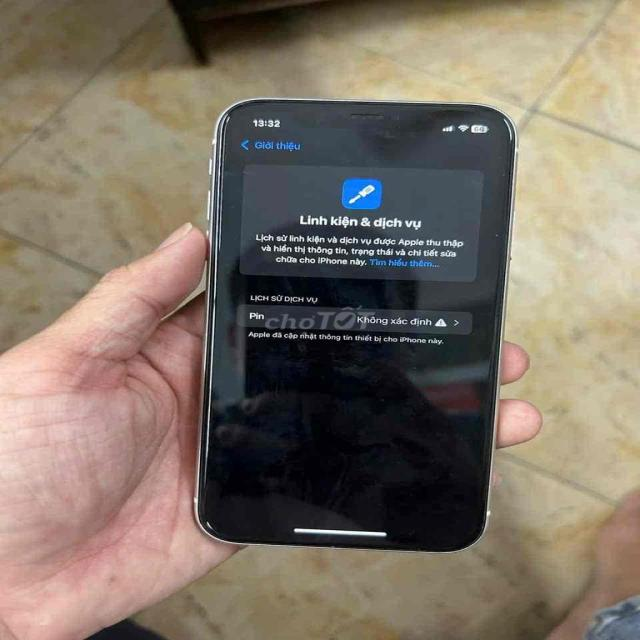gen_11: (195, 99, 516, 552)
